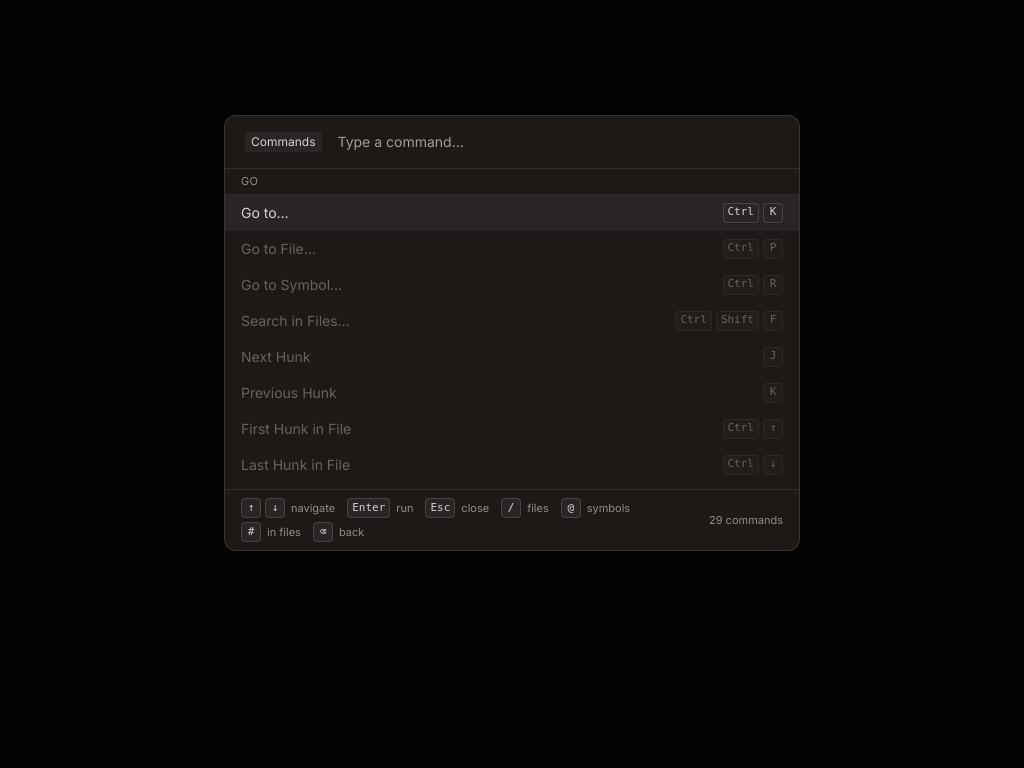
commands mode › lists commands and finds one by name
In the dropdown: (556, 142) [334, 128, 779, 156], type "zoom in"
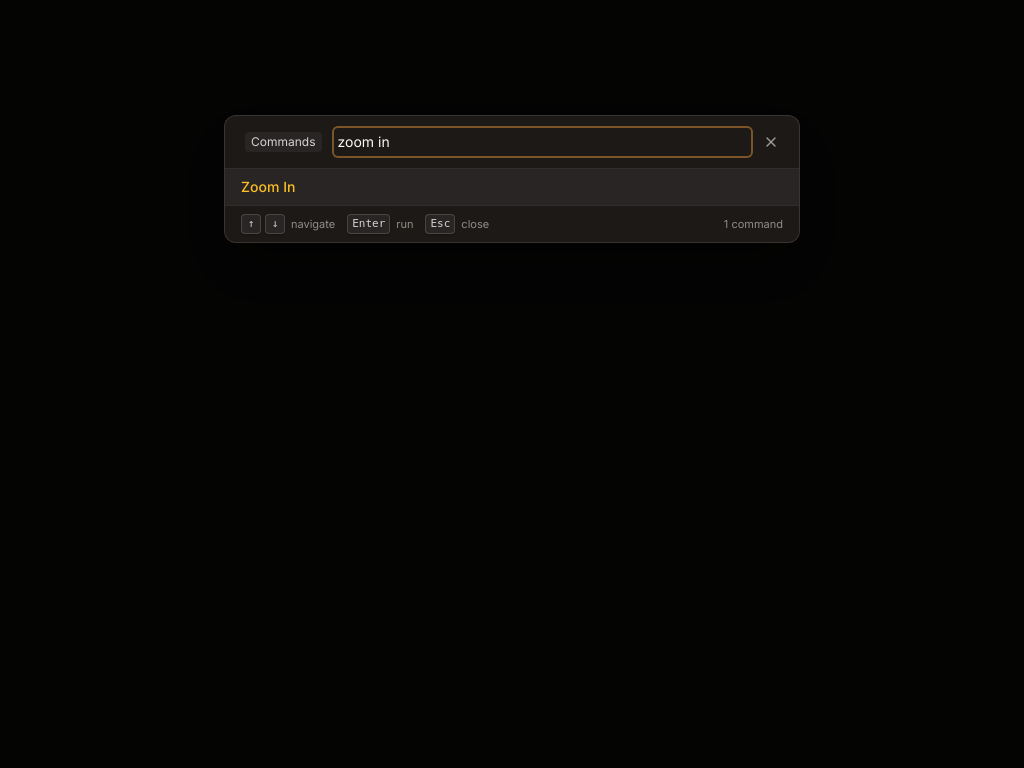
Now the element showing "Zoom In" is shown, box [241, 178, 296, 195]
